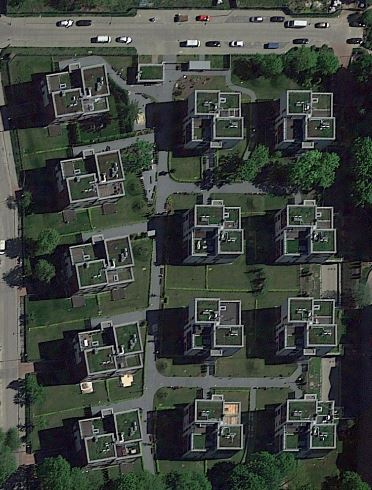block of flats: (62, 317, 147, 399), (36, 57, 122, 133), (65, 404, 152, 478), (264, 387, 346, 464), (265, 80, 343, 158), (59, 231, 140, 305), (175, 195, 252, 271), (270, 289, 345, 366), (267, 194, 342, 270), (172, 84, 248, 157), (176, 387, 251, 460), (53, 144, 132, 213), (176, 290, 248, 362)
